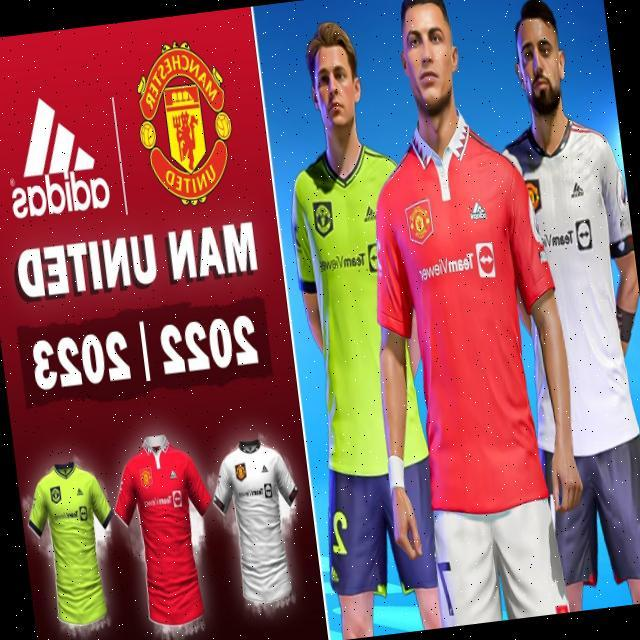Adidas: (466, 196, 487, 223), (568, 175, 586, 205), (361, 200, 379, 225)
TeamViewer: (413, 240, 495, 287), (534, 215, 593, 257), (315, 242, 379, 279)
